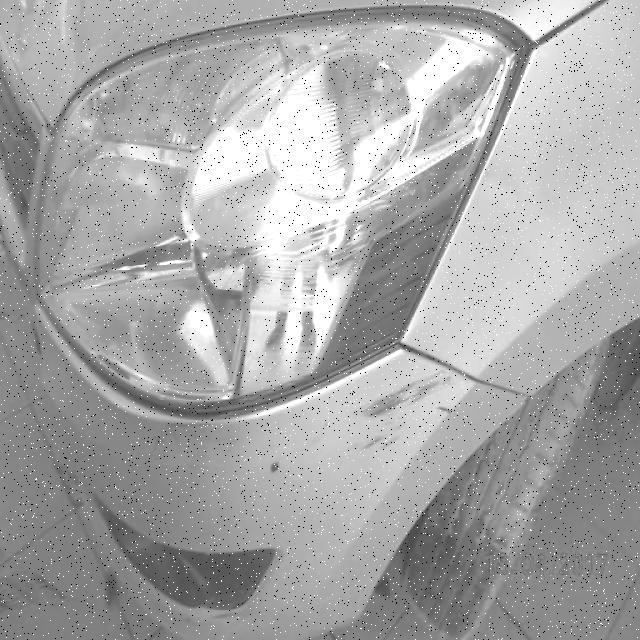car damage: (357, 362, 456, 452)
